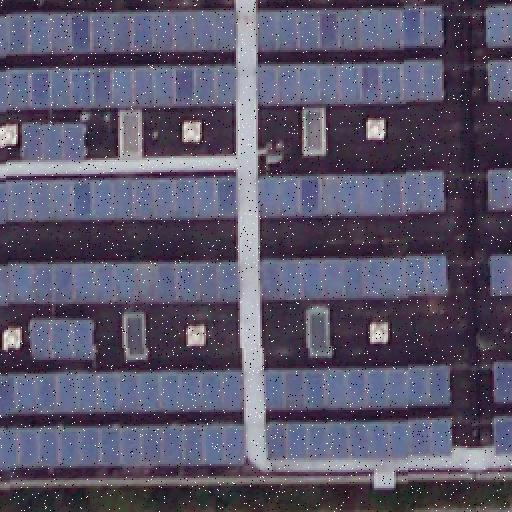solar-panel: (1, 422, 247, 470), (0, 368, 244, 416), (0, 7, 232, 57), (1, 174, 239, 222), (0, 64, 236, 112), (0, 257, 240, 303), (261, 362, 451, 410), (258, 170, 446, 218), (256, 58, 444, 106), (254, 4, 442, 52), (260, 253, 448, 299), (265, 418, 455, 462), (27, 315, 93, 357), (22, 121, 86, 159), (484, 58, 512, 102), (484, 4, 512, 48), (486, 165, 512, 211), (488, 255, 512, 297), (489, 359, 511, 401), (492, 415, 512, 457)
